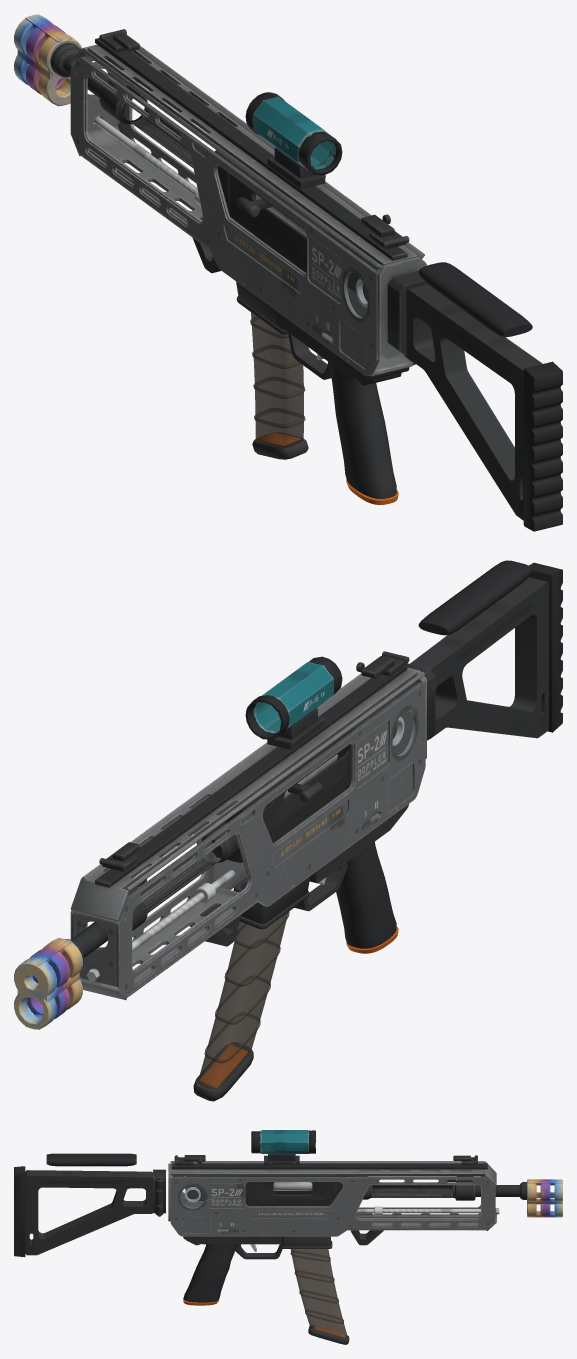
Rendered from doppler-world.gltf.
3 views of the same model, one above another, from view 1: azimuth 30°, elevation 25°; view 2: azimuth 150°, elevation 25°; view 3: azimuth 270°, elevation 25° (orthographic). The views are drawn at different scales.
Parts seen in each view (by area): view 1: body, unit, mag, factory-optic, bolt; view 2: body, unit, mag, factory-optic, follower, bolt; view 3: body, unit, mag, factory-optic, bolt.
Part boxes in pixels (x1,y1,x2,y2): body: (70, 29, 562, 531); unit: (14, 14, 377, 301); mag: (250, 312, 308, 459); factory-optic: (245, 92, 342, 189); bolt: (236, 194, 306, 236); body: (70, 560, 562, 1000); unit: (14, 698, 396, 1029); mag: (193, 911, 289, 1101); factory-optic: (245, 656, 342, 749); follower: (199, 1044, 247, 1088); bolt: (284, 754, 337, 802); body: (14, 1153, 499, 1305); unit: (186, 1176, 562, 1217); mag: (290, 1249, 349, 1344); factory-optic: (251, 1130, 315, 1166); bolt: (273, 1182, 312, 1190).
Bounding box in the file's own units: 0.0846 × 0.3858 × 0.9375.
Materials: 4 (1 with a texture image).
